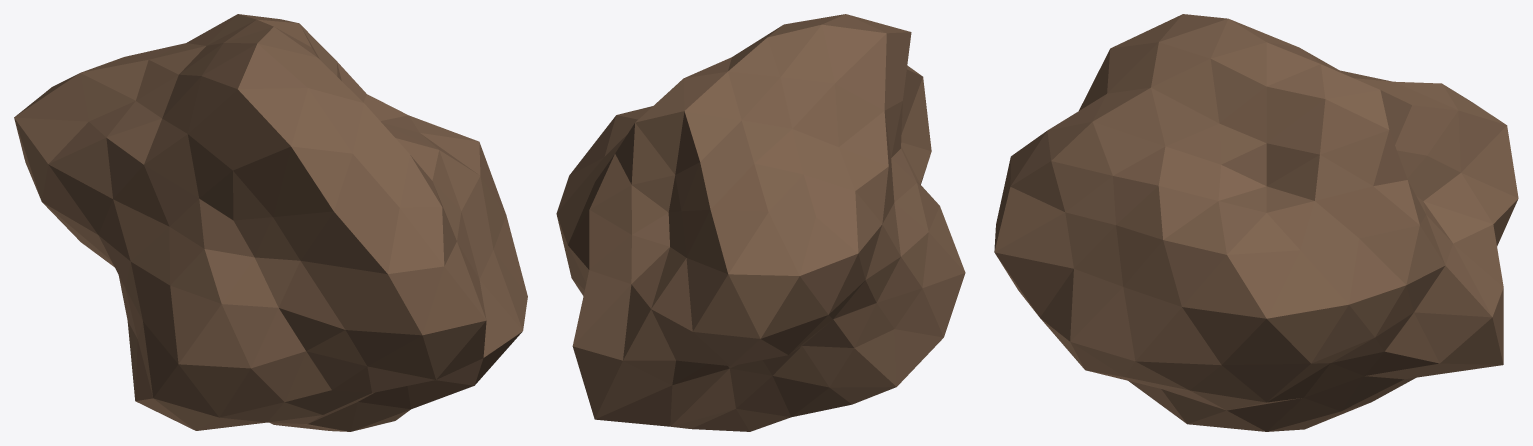
Rendered from asteroid_d.glb.
3 views of the same model, side by side, from view 1: azimuth 30°, elevation 25°; view 2: azimuth 150°, elevation 25°; view 3: azimuth 270°, elevation 25° (orthographic). The views are drawn at different scales.
Parts seen in each view (by area): view 1: rock; view 2: rock; view 3: rock.
Boxes of the visible parts, x1,y1,x2,y2 form: rock: [14, 14, 527, 431]; rock: [556, 14, 965, 431]; rock: [994, 14, 1518, 431].
Size of what is drawn, in the model's own units: 10.21 by 10.81 by 13.6.
